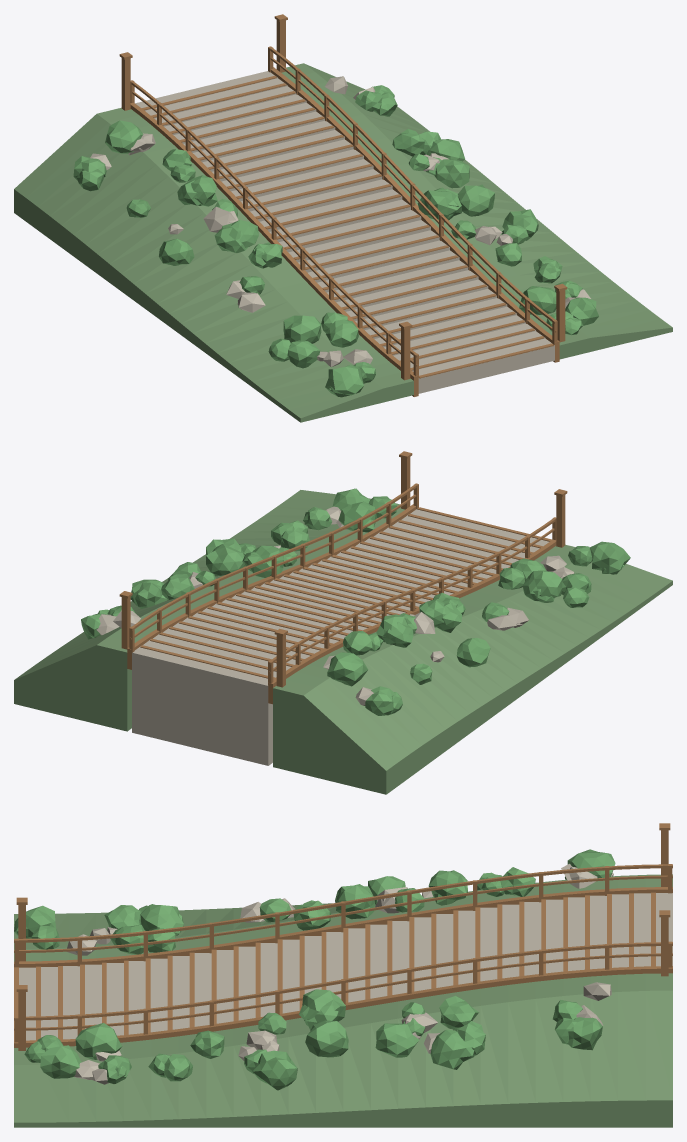
The model's file is ZooStair.fbx.
3 views of the same model, one above another, from view 1: azimuth 30°, elevation 25°; view 2: azimuth 150°, elevation 25°; view 3: azimuth 270°, elevation 25° (orthographic). The views are drawn at different scales.
Parts seen in each view (by area): view 1: ZooStair; view 2: ZooStair; view 3: ZooStair.
Part boxes in pixels (box(x1,y1,x2,y2)): ZooStair: box(14, 14, 672, 422); ZooStair: box(14, 451, 672, 794); ZooStair: box(14, 823, 672, 1127).
Bounding box in the file's own units: 18 × 6.3 × 24.
